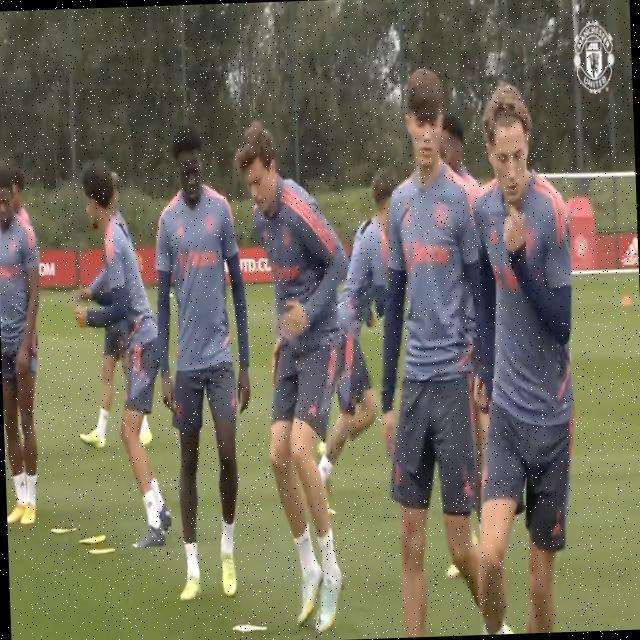Adidas: (621, 231, 639, 269), (462, 480, 474, 497), (307, 402, 318, 419)
